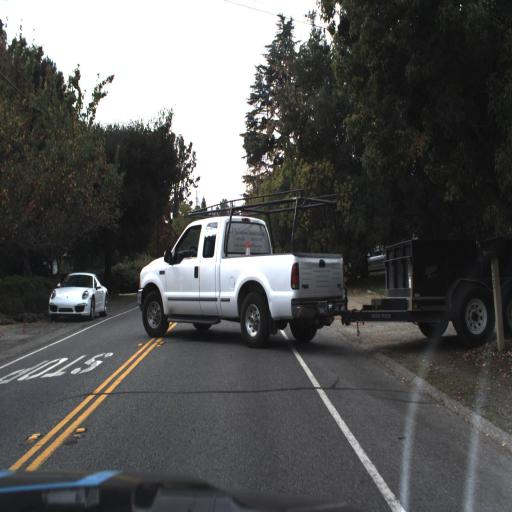car: (134, 192, 504, 337), (47, 272, 106, 322)
